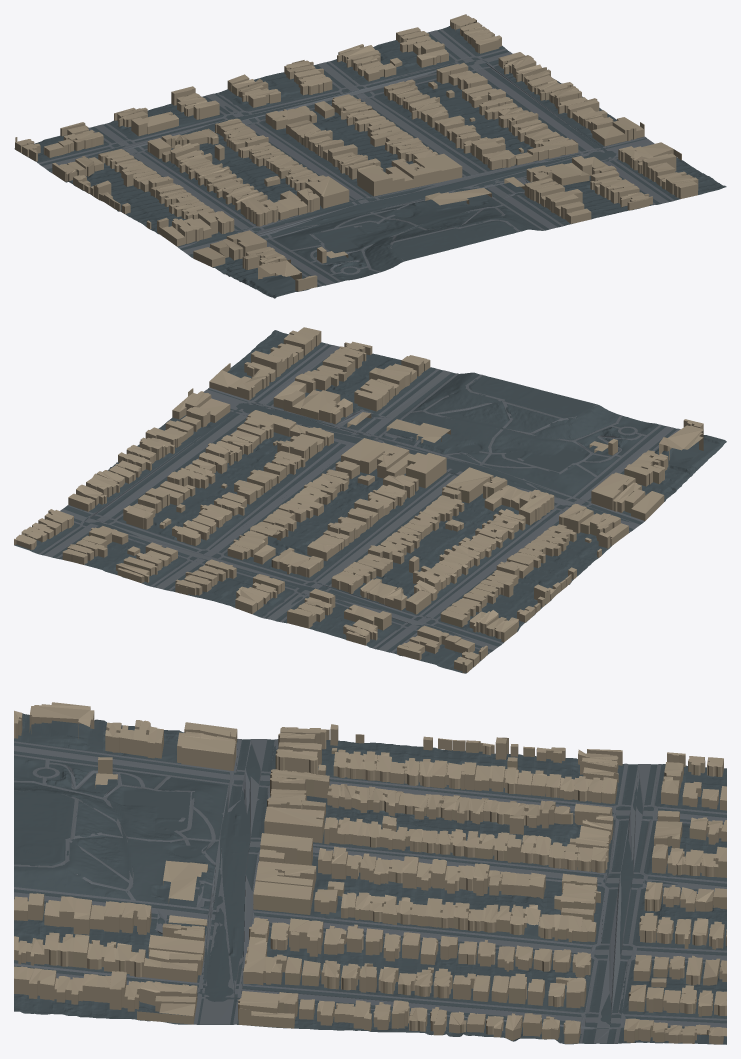
The model's file is epsg26910-1421-10878.lod0.glb.
3 views of the same model, one above another, from view 1: azimuth 30°, elevation 25°; view 2: azimuth 150°, elevation 25°; view 3: azimuth 270°, elevation 25° (orthographic). The views are drawn at different scales.
Visible parts, largest first — view 1: epsg26910-1421-10878-lod0; view 2: epsg26910-1421-10878-lod0; view 3: epsg26910-1421-10878-lod0.
Part boxes in pixels (box(x1,y1,x2,y2)): epsg26910-1421-10878-lod0: box(14, 14, 726, 298); epsg26910-1421-10878-lod0: box(14, 327, 726, 673); epsg26910-1421-10878-lod0: box(14, 702, 726, 1044).
Size of the model in its own units: 384 by 44.08 by 384.
